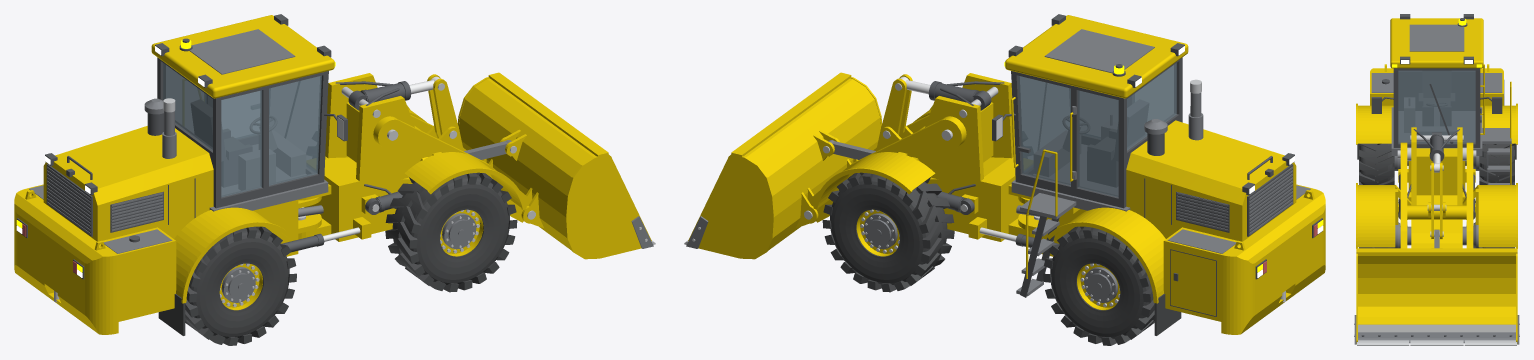
Rendered from Wheel_Loader_3yd.glb.
3 views of the same model, side by side, from view 1: azimuth 30°, elevation 25°; view 2: azimuth 150°, elevation 25°; view 3: azimuth 270°, elevation 25° (orthographic). The views are drawn at different scales.
Visible parts, largest first — view 1: rim_front_L, tyre_front_L, hub_front_L, steering_cylinder, cab_glass, wheel_nuts_front_L, steering_cylinder_rod; view 2: rim_front_L, tyre_front_L, steering_cylinder, hub_front_L, cab_glass, wheel_nuts_front_L, steering_cylinder_rod; view 3: rim_front_L, hub_front_L, steering_cylinder, cab_glass, tyre_front_L, wheel_nuts_front_L, bucket_floor_wear.
Boxes of the visible parts, x1,y1,x2,y2 form: rim_front_L: (14, 15, 651, 334); tyre_front_L: (158, 172, 517, 345); hub_front_L: (29, 29, 653, 302); steering_cylinder: (17, 14, 411, 279); cab_glass: (163, 63, 321, 197); wheel_nuts_front_L: (54, 83, 655, 307); steering_cylinder_rod: (323, 76, 439, 241); rim_front_L: (688, 15, 1325, 334); tyre_front_L: (822, 172, 1181, 345); steering_cylinder: (928, 14, 1322, 316); hub_front_L: (686, 29, 1310, 302); cab_glass: (1018, 63, 1176, 197); wheel_nuts_front_L: (684, 79, 1285, 307); steering_cylinder_rod: (900, 76, 1016, 241); rim_front_L: (1356, 18, 1517, 343); hub_front_L: (1354, 24, 1519, 344); steering_cylinder: (1361, 14, 1512, 336); cab_glass: (1398, 70, 1475, 143); tyre_front_L: (1357, 143, 1516, 248); wheel_nuts_front_L: (1354, 135, 1519, 345); bucket_floor_wear: (1358, 324, 1515, 332).
Bounding box in the file's own units: 165 × 71.48 × 58.32.
